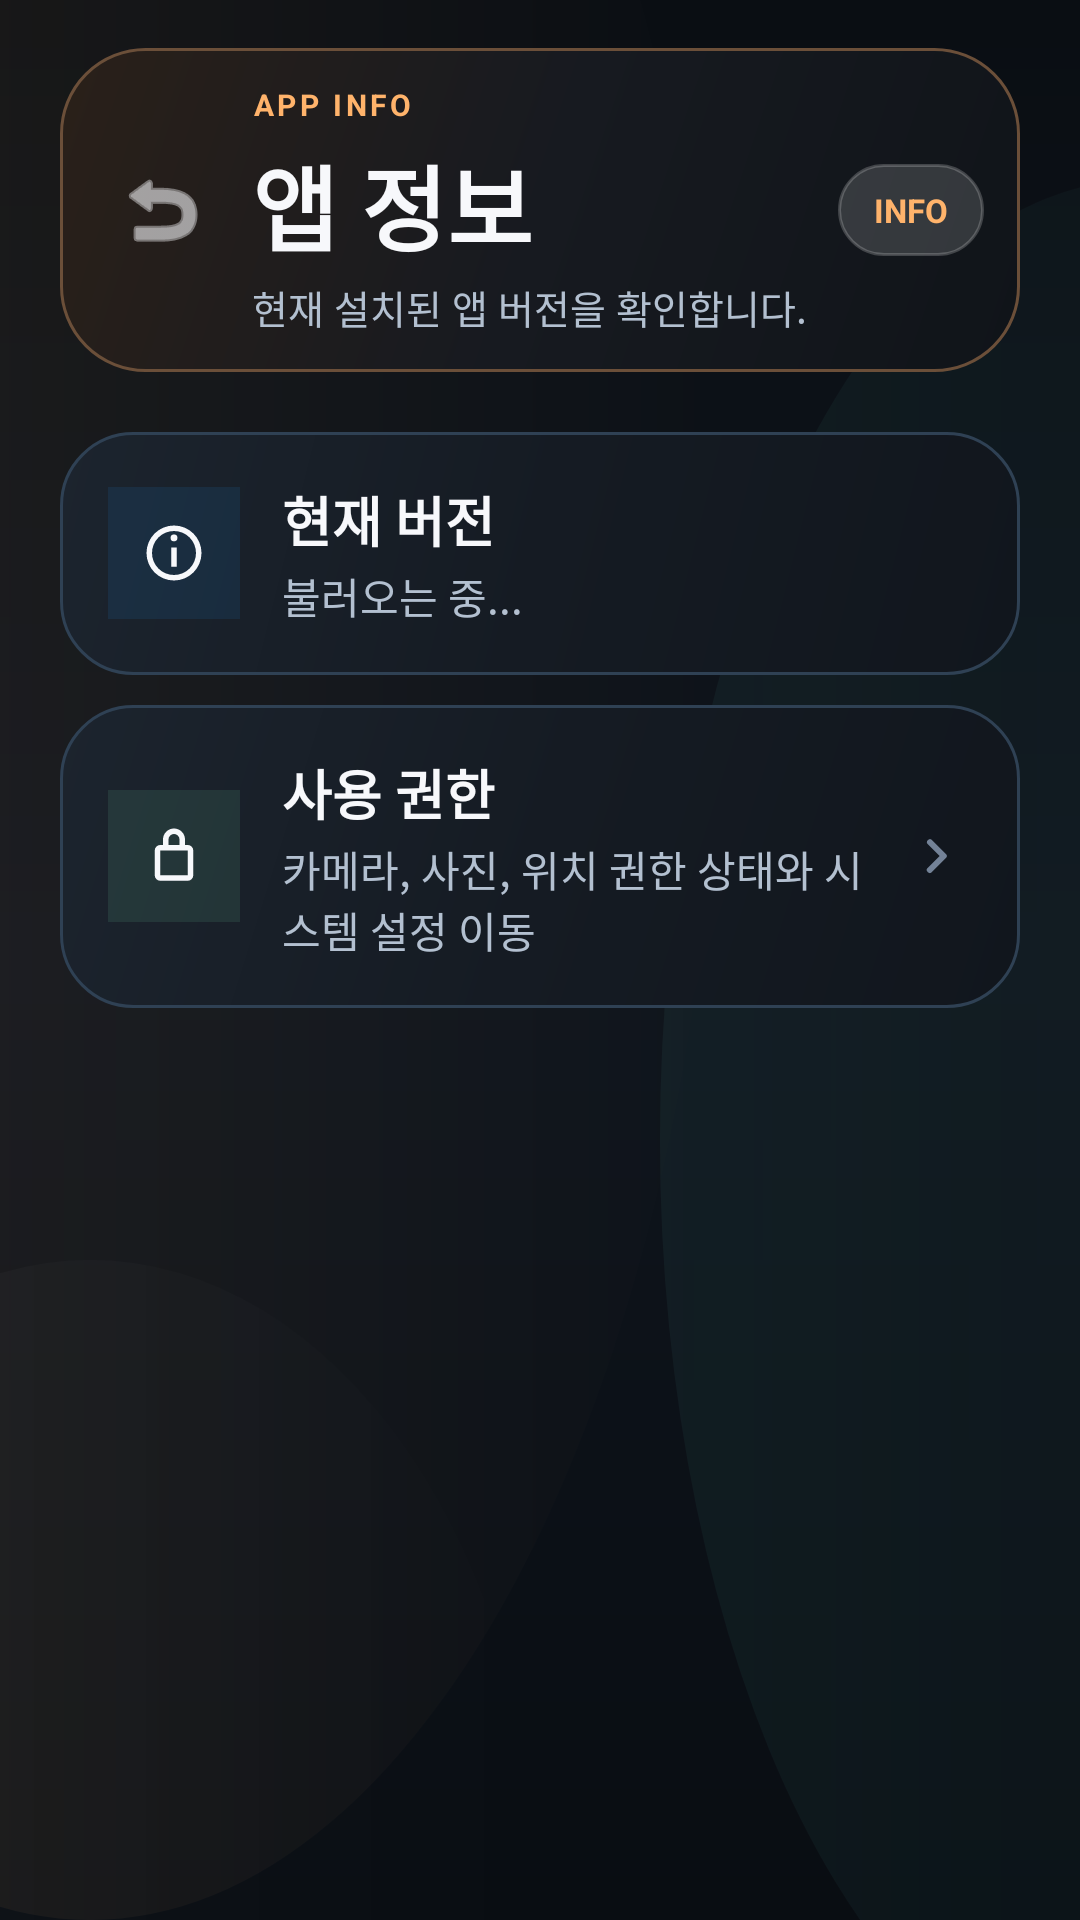

Where icons sit on this 1080px x 1920px app screen, as (x1, y1, x2, y2):
chevron right: (926, 839, 947, 873)
info: (146, 525, 202, 581)
lock: (154, 828, 194, 881)
revert: (129, 179, 198, 242)
